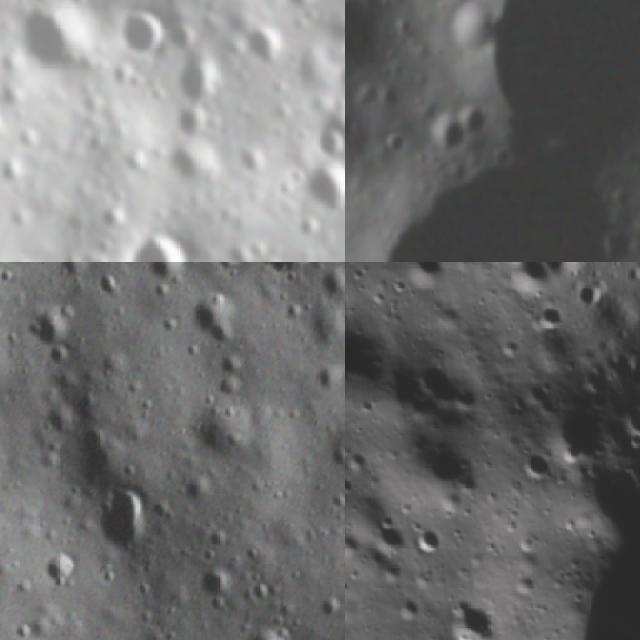crater: (485, 0, 640, 156), (0, 0, 107, 88), (405, 341, 493, 436), (150, 34, 237, 120), (149, 121, 229, 202), (539, 394, 616, 474), (94, 478, 160, 562), (98, 0, 177, 70), (284, 138, 345, 227), (106, 212, 209, 262), (56, 418, 127, 488), (228, 10, 295, 78), (432, 585, 510, 640), (183, 286, 235, 348), (298, 103, 345, 167), (29, 301, 75, 360), (508, 440, 558, 491), (365, 514, 413, 563), (186, 565, 238, 609), (345, 0, 378, 68), (396, 262, 455, 300), (29, 547, 74, 590), (406, 522, 449, 563), (230, 614, 295, 640), (262, 0, 327, 23), (89, 266, 129, 303), (246, 262, 317, 282), (390, 589, 425, 625), (530, 298, 564, 333), (431, 113, 456, 158), (345, 444, 374, 481), (463, 100, 484, 142), (378, 128, 406, 159), (316, 590, 342, 622), (146, 262, 183, 283)
